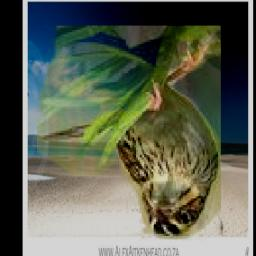Sparrow: (37, 25, 221, 240)
